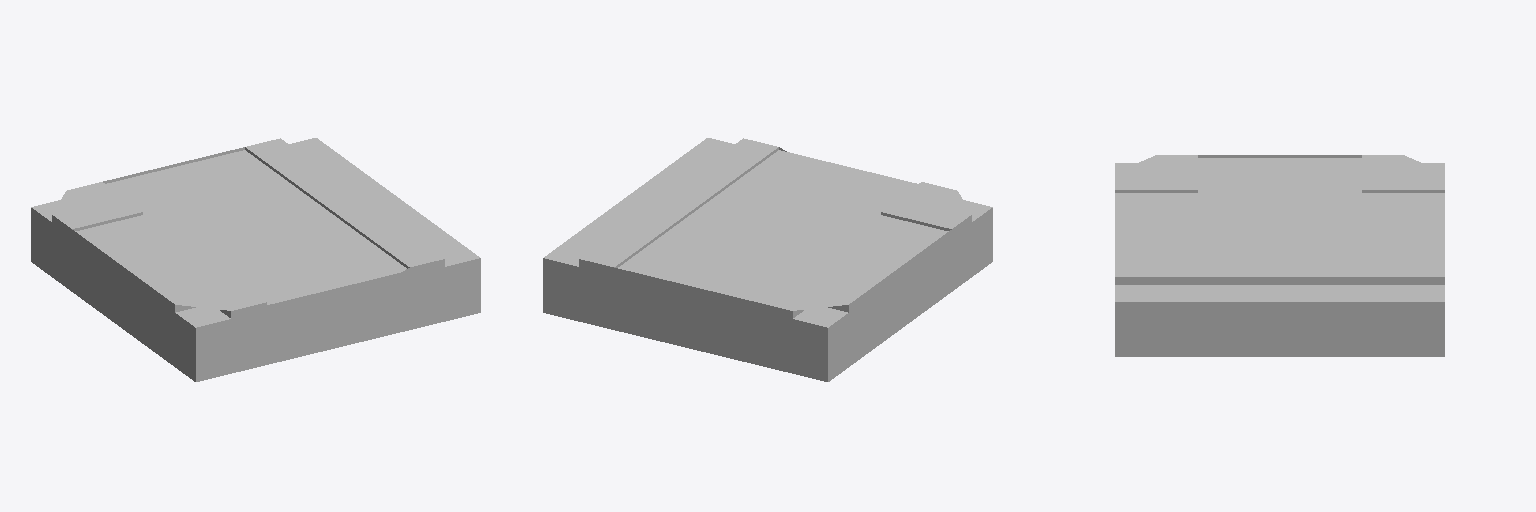
File: roadTile_1501.obj
The picture shows the model from 3 angles: view 1: azimuth 30°, elevation 25°; view 2: azimuth 150°, elevation 25°; view 3: azimuth 270°, elevation 25°; orthographic projection.
Visible parts, largest first — view 1: Mesh1_Group1_Model; view 2: Mesh1_Group1_Model; view 3: Mesh1_Group1_Model.
Part boxes in pixels (left/top/right/bottom): Mesh1_Group1_Model: left=31, top=138, right=480, bottom=381; Mesh1_Group1_Model: left=543, top=138, right=992, bottom=381; Mesh1_Group1_Model: left=1115, top=155, right=1444, bottom=356.
Size of the model in its own units: 1.08 by 0.2268 by 1.08.